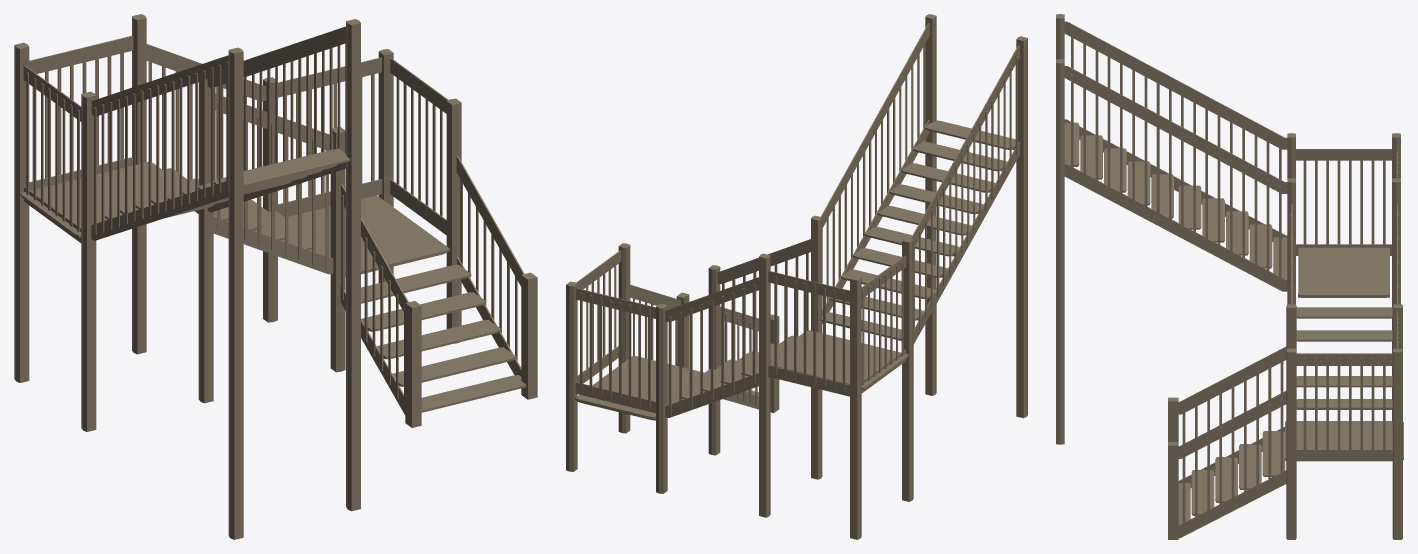
Rendered from ComplexStairs.FBX.
3 renders of one model, left to right at view 1: azimuth 30°, elevation 25°; view 2: azimuth 150°, elevation 25°; view 3: azimuth 270°, elevation 25°, orthographic. The views are drawn at different scales.
Visible parts, largest first — view 1: ComplexStairs; view 2: ComplexStairs; view 3: ComplexStairs.
Part boxes in pixels (x1,y1,x2,y2): ComplexStairs: (14, 14, 537, 539); ComplexStairs: (566, 14, 1027, 539); ComplexStairs: (1056, 14, 1403, 539).
Size of what is drawn, in the model's own units: 381 by 471 by 388.
